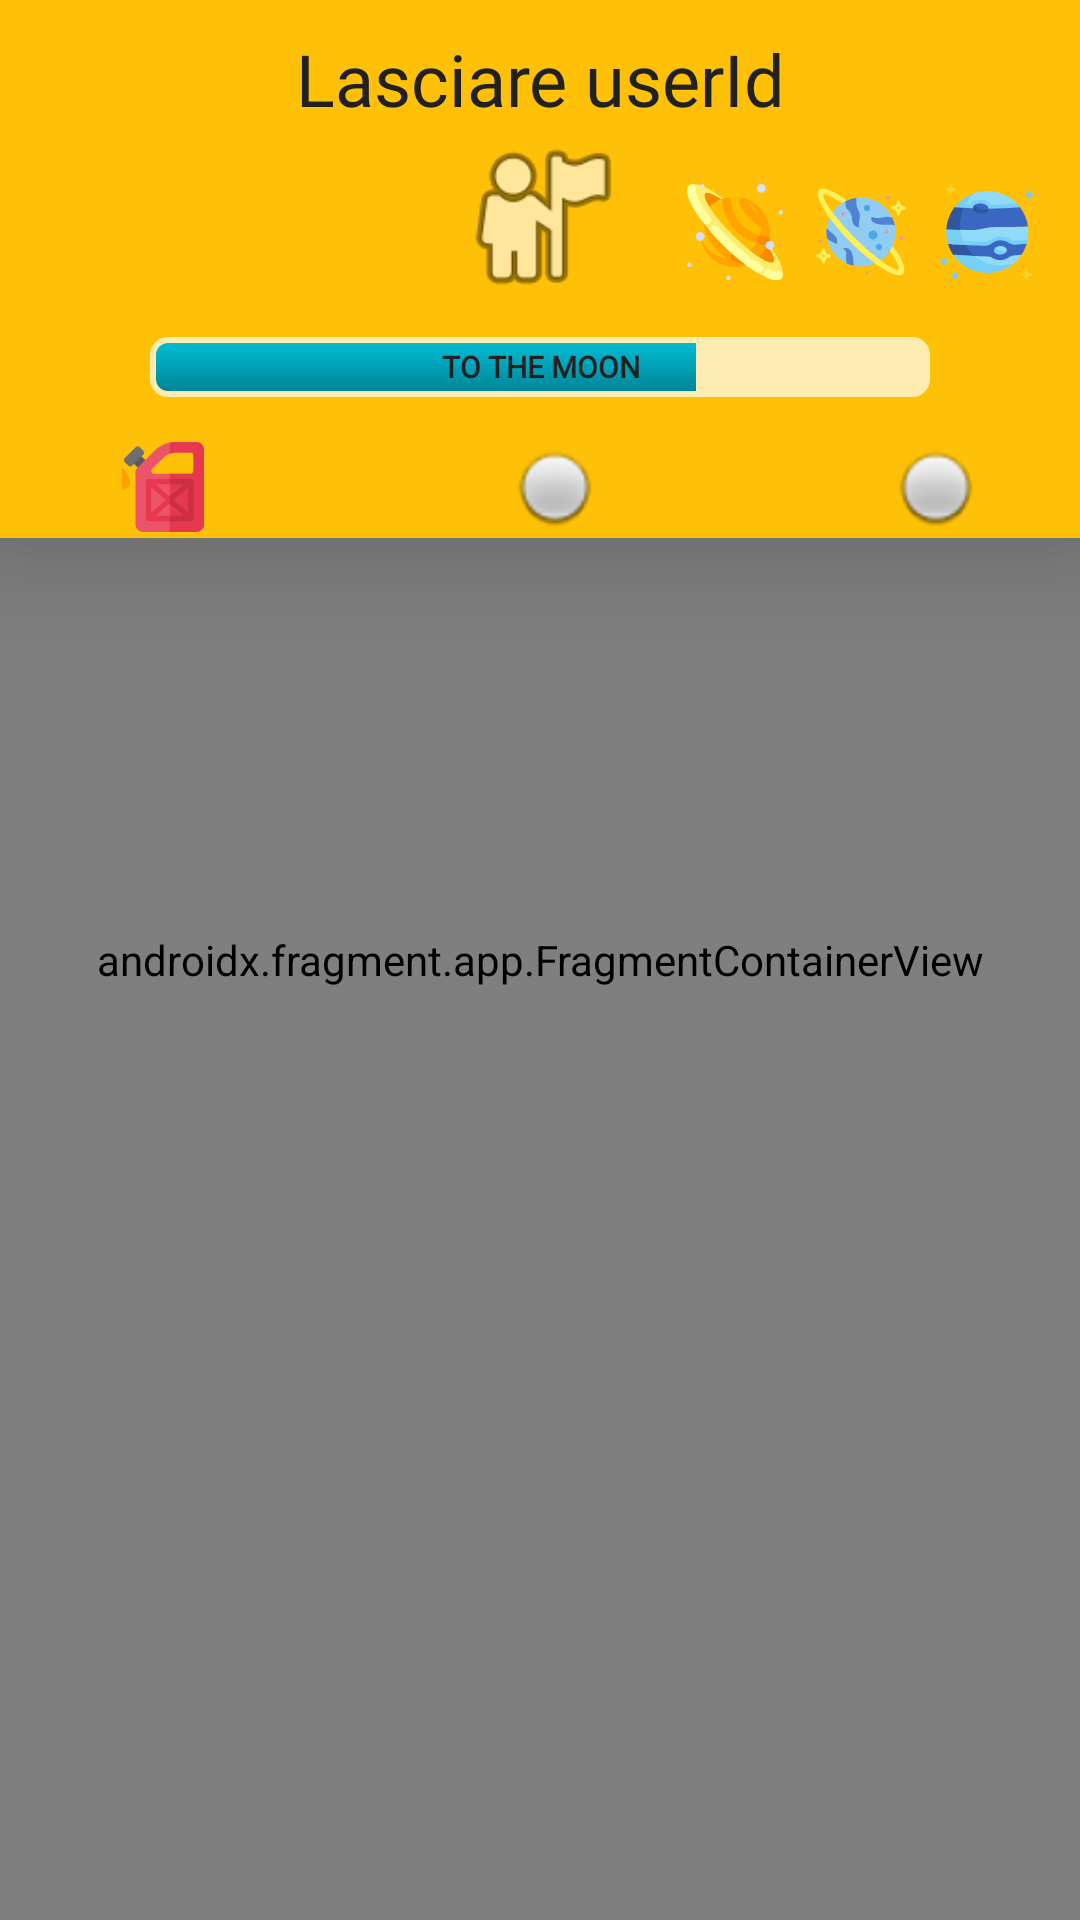

Icons on this 1080w x 1920h Android screen, each with its box as [x1, y1, x2, y2]:
Child icon: [476, 150, 611, 284]
Neptune icon: [940, 184, 1034, 280]
Saturn icon: [687, 184, 783, 280]
Uranus icon: [816, 189, 906, 275]
